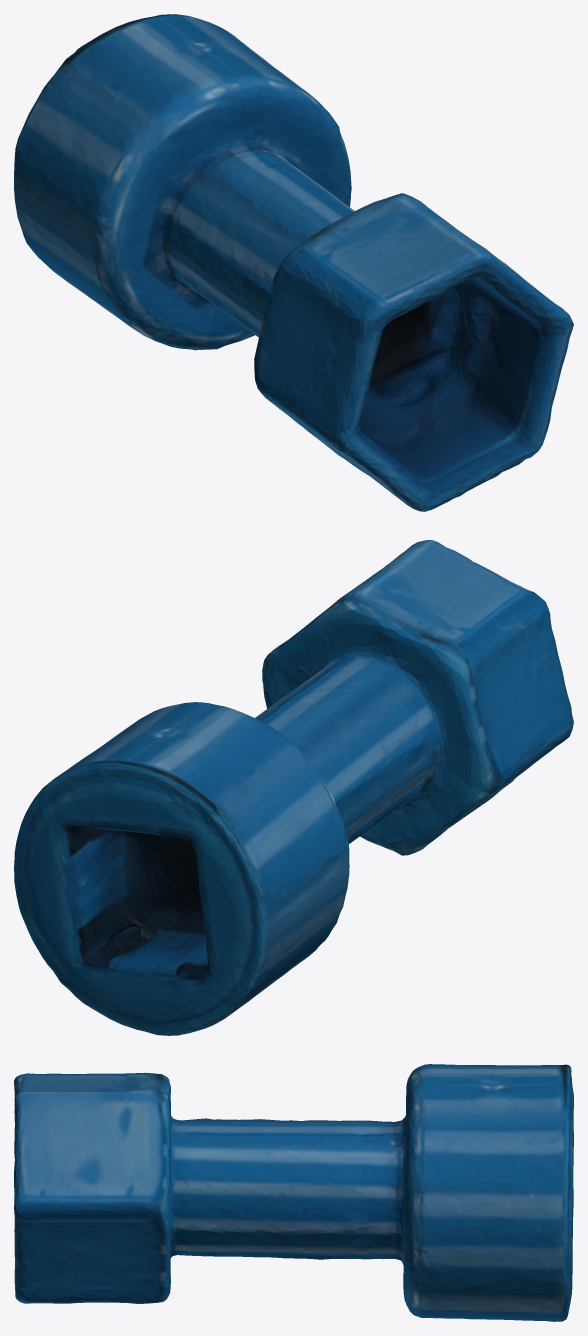
Rendered from c_toy_airplane.glb.
The picture shows the model from 3 angles, top to bottom: view 1: azimuth 30°, elevation 25°; view 2: azimuth 150°, elevation 25°; view 3: azimuth 270°, elevation 25°; orthographic projection. The views are drawn at different scales.
Parts seen in each view (by area): view 1: textured.obj; view 2: textured.obj; view 3: textured.obj.
Boxes of the visible parts, x1=… form: textured.obj: x1=14, y1=14, x2=573, y2=511; textured.obj: x1=14, y1=540, x2=573, y2=1035; textured.obj: x1=14, y1=1064, x2=573, y2=1321.
Size of the model in its own units: 0.0305 by 0.0305 by 0.0666.
1 material, 1 textured.
